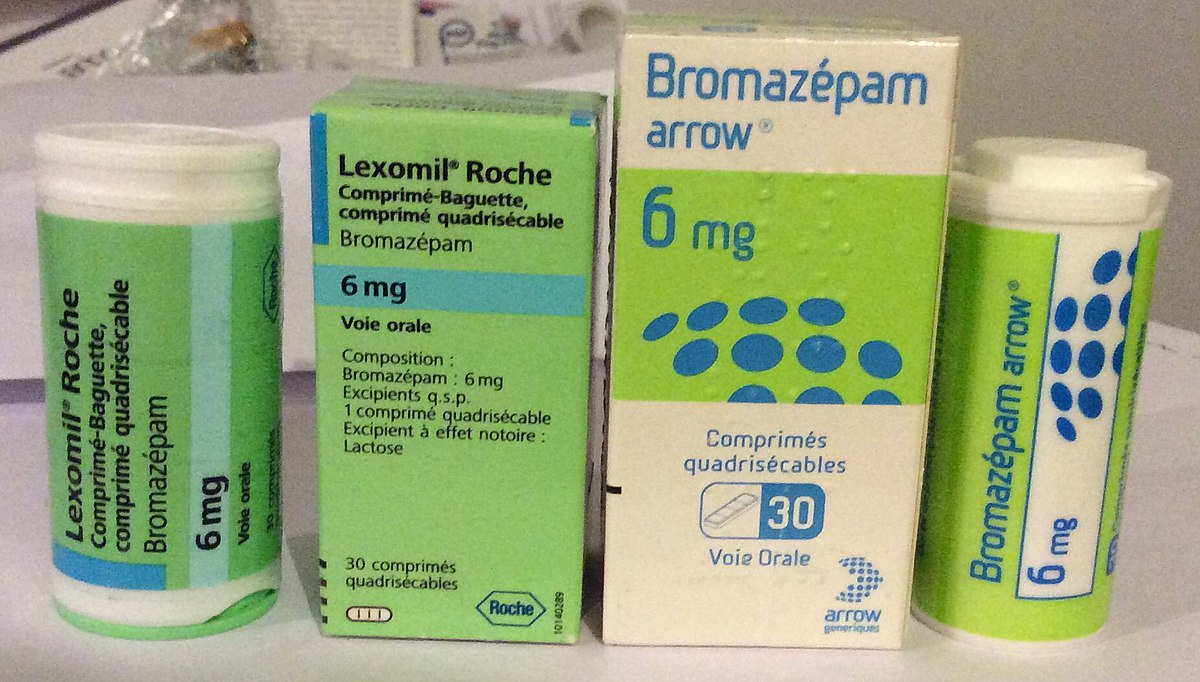Medicine: (620, 12, 962, 676), (298, 70, 594, 652), (912, 134, 1180, 658), (24, 118, 294, 634)
